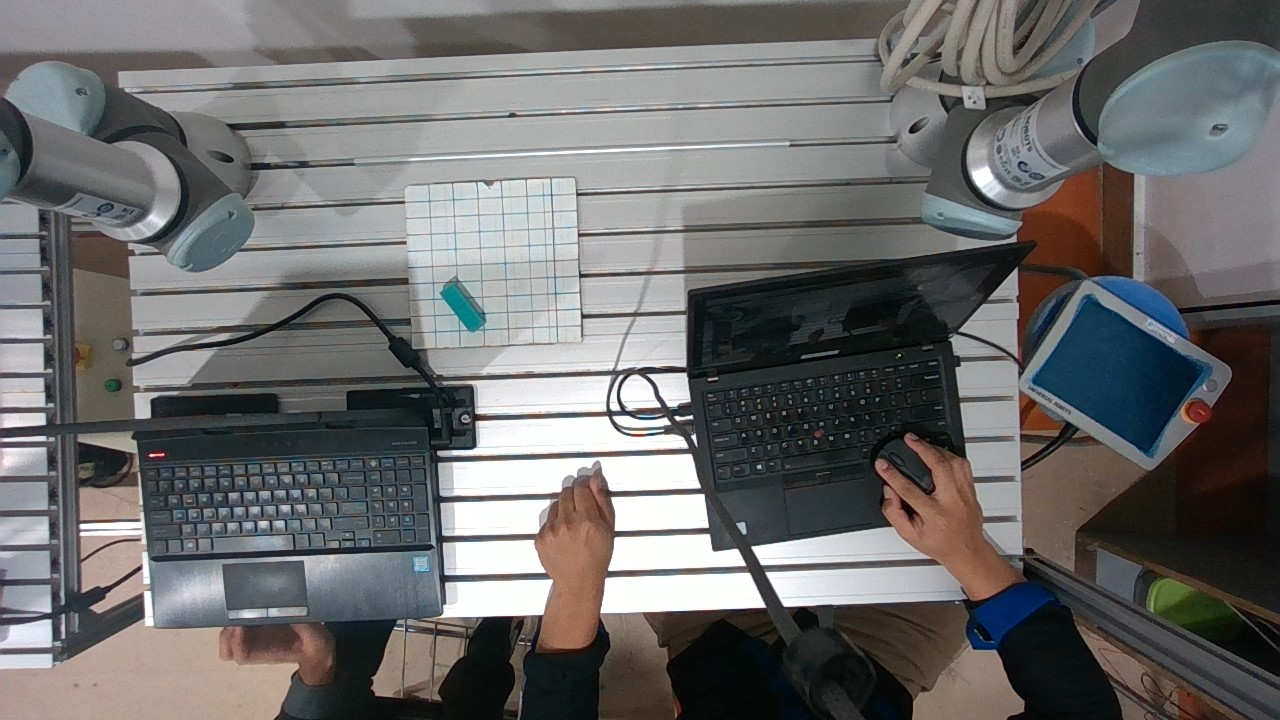box: (427, 268, 497, 343)
